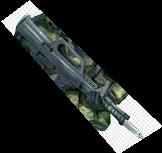gun: (1, 0, 162, 153)
